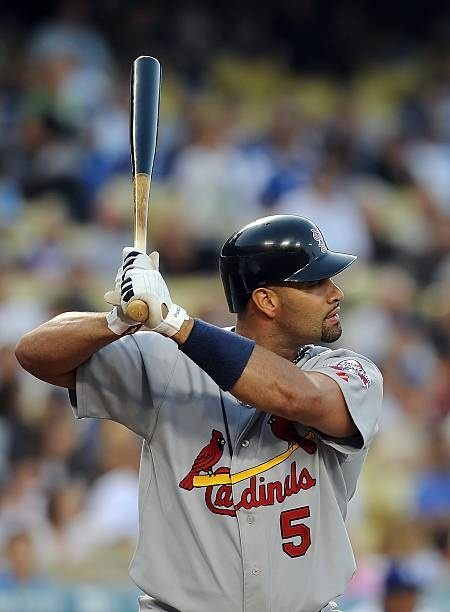bita: (123, 52, 168, 312)
